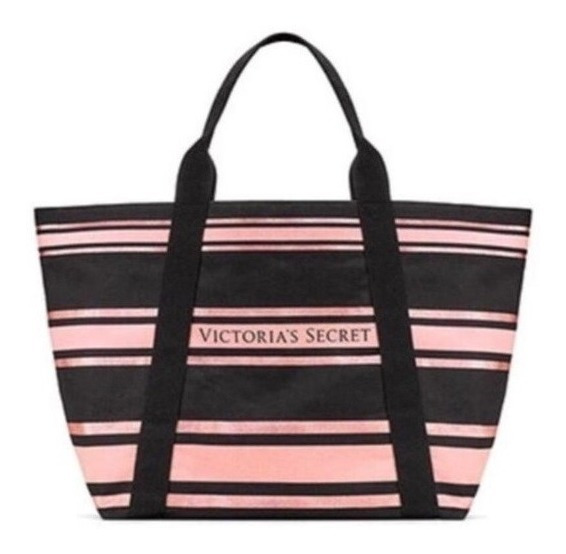cartera: (32, 32, 533, 522)
